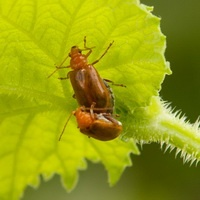insect: (49, 36, 125, 140)
